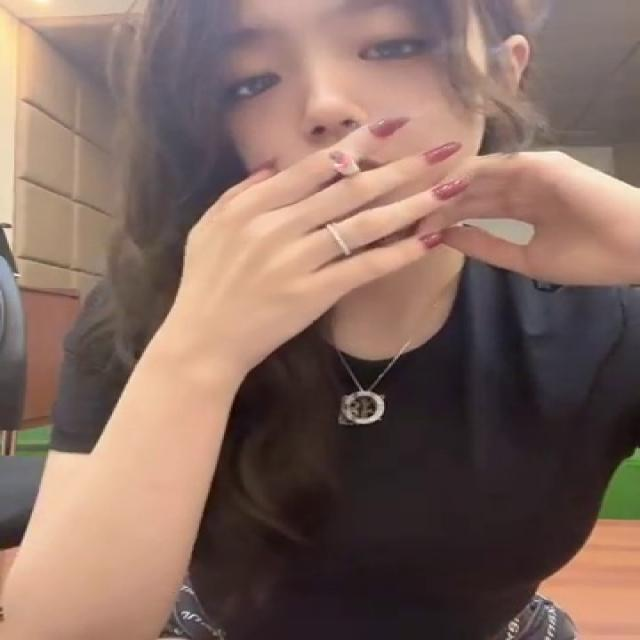Cigarette: (328, 149, 361, 177)
Hand: (167, 110, 470, 328)
Mouth: (315, 159, 387, 171)
